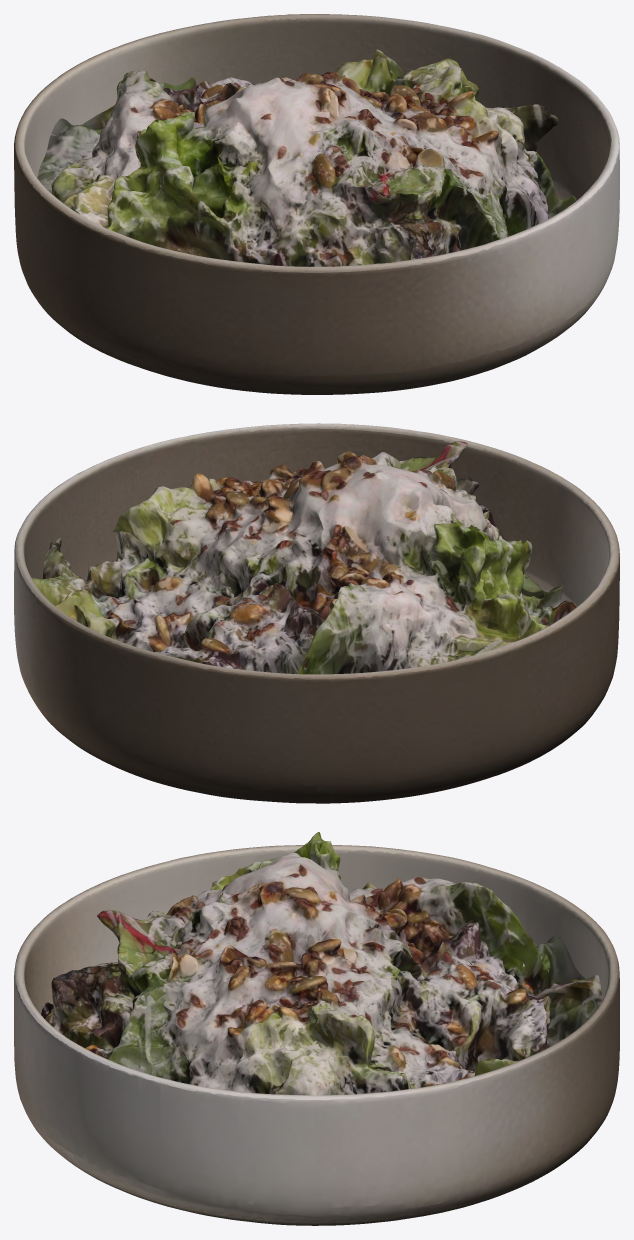
The model's file is Green.salad.with.green.vegetables.001.glb.
The picture shows the model from 3 angles, top to bottom: view 1: azimuth 30°, elevation 25°; view 2: azimuth 150°, elevation 25°; view 3: azimuth 270°, elevation 25°; orthographic projection.
Visible parts, largest first — view 1: /Root/Scenes/Scene/Object_46/Object_47/Object_48/Submesh_0, /Root/Scenes/Scene/Object_46/Object_51/Submesh_0; view 2: /Root/Scenes/Scene/Object_46/Object_47/Object_48/Submesh_0, /Root/Scenes/Scene/Object_46/Object_51/Submesh_0; view 3: /Root/Scenes/Scene/Object_46/Object_47/Object_48/Submesh_0, /Root/Scenes/Scene/Object_46/Object_51/Submesh_0.
Part boxes in pixels (left/top/right/bottom): /Root/Scenes/Scene/Object_46/Object_47/Object_48/Submesh_0: left=14, top=14, right=619, bottom=394; /Root/Scenes/Scene/Object_46/Object_51/Submesh_0: left=37, top=49, right=576, bottom=364; /Root/Scenes/Scene/Object_46/Object_47/Object_48/Submesh_0: left=14, top=423, right=619, bottom=803; /Root/Scenes/Scene/Object_46/Object_51/Submesh_0: left=32, top=441, right=576, bottom=674; /Root/Scenes/Scene/Object_46/Object_47/Object_48/Submesh_0: left=14, top=845, right=619, bottom=1225; /Root/Scenes/Scene/Object_46/Object_51/Submesh_0: left=41, top=832, right=602, bottom=1095.
Size of the model in its own units: 0.222 by 0.0923 by 0.2218.
Materials: 2 (2 with a texture image).
